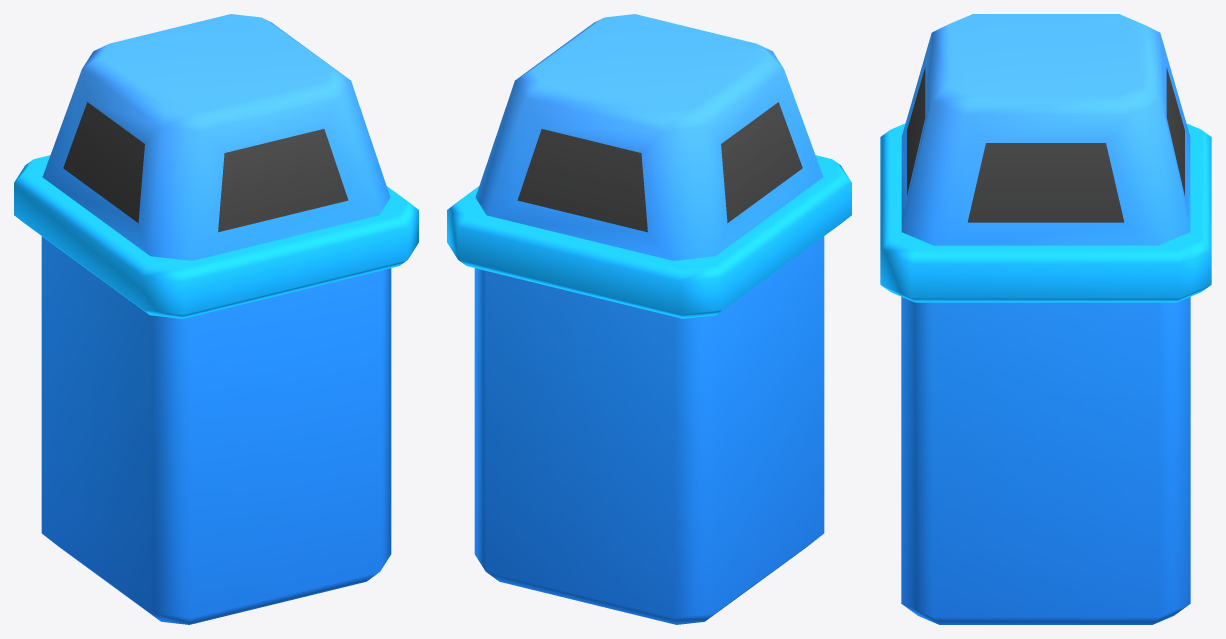
File: city2-trash-can-03.glb
3 views of the same model, side by side, from view 1: azimuth 30°, elevation 25°; view 2: azimuth 150°, elevation 25°; view 3: azimuth 270°, elevation 25° (orthographic). The views are drawn at different scales.
Visible parts, largest first — view 1: Trash_Can_03; view 2: Trash_Can_03; view 3: Trash_Can_03.
Boxes of the visible parts, x1=… form: Trash_Can_03: x1=14, y1=14, x2=418, y2=624; Trash_Can_03: x1=447, y1=14, x2=851, y2=624; Trash_Can_03: x1=880, y1=14, x2=1211, y2=624.
Bounding box in the file's own units: 0.5099 × 0.8757 × 0.5099.
1 material, 1 textured.
